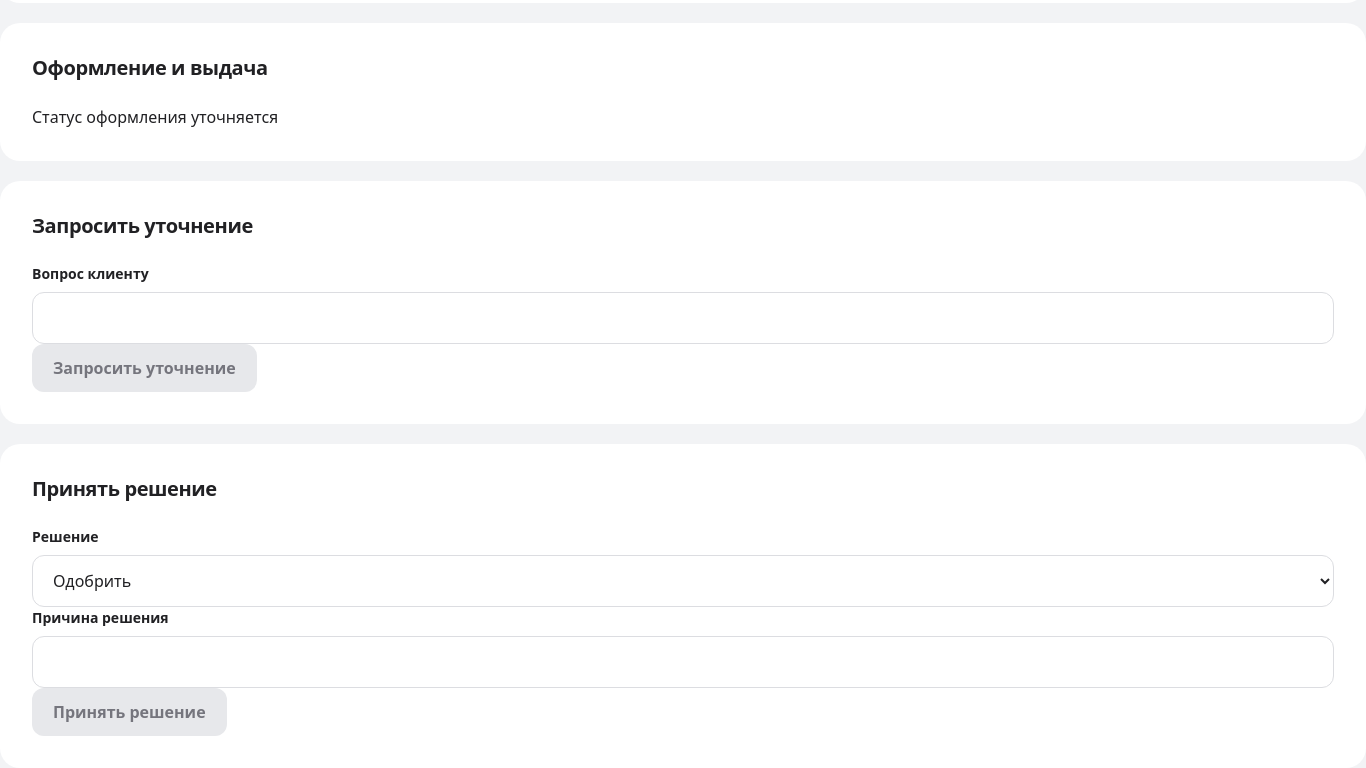
Test case: refreshes stale status on conflict without repeating the decision
(page scrolled)
Type "Проверено" into the field labelled "Причина решения" at (683, 662), box x1=32 y1=636 x2=1334 y2=688
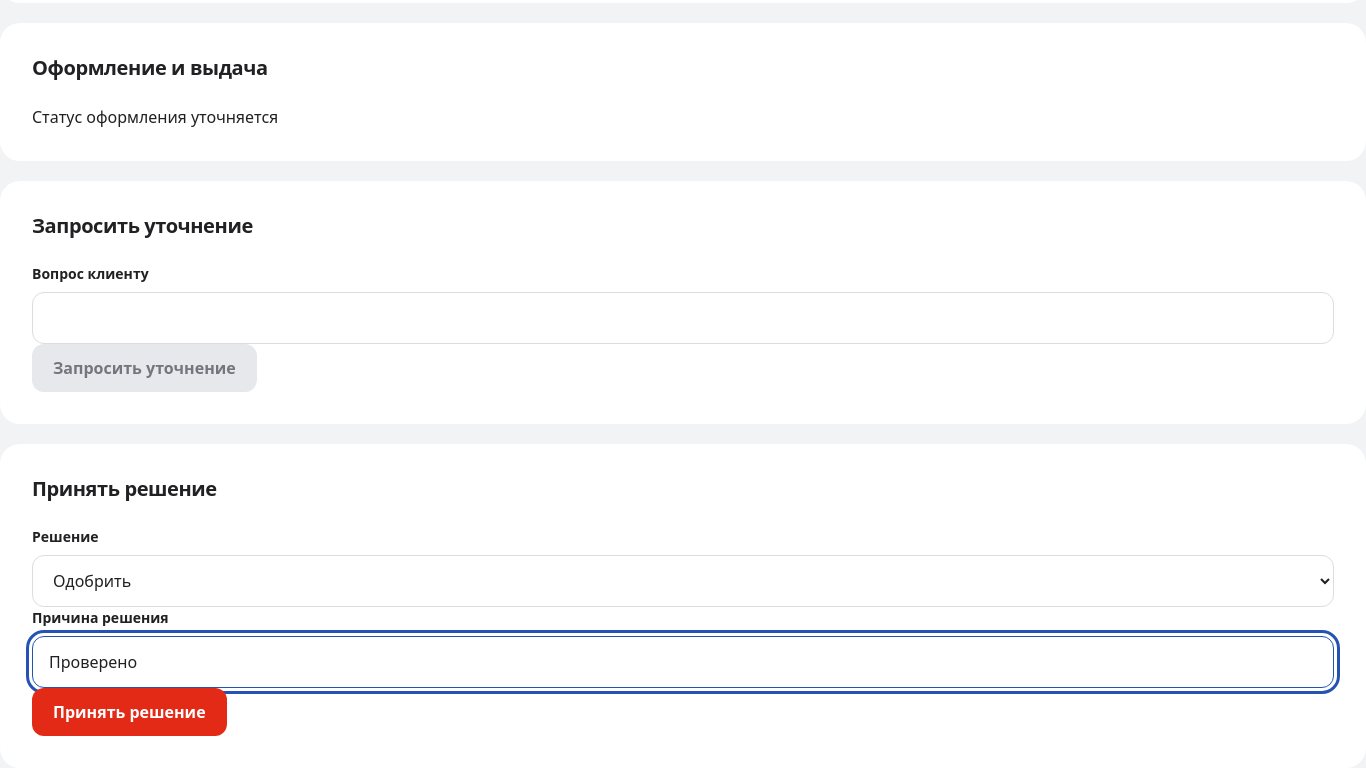
Click the button "Принять решение" at (129, 712), box x1=32 y1=688 x2=227 y2=736
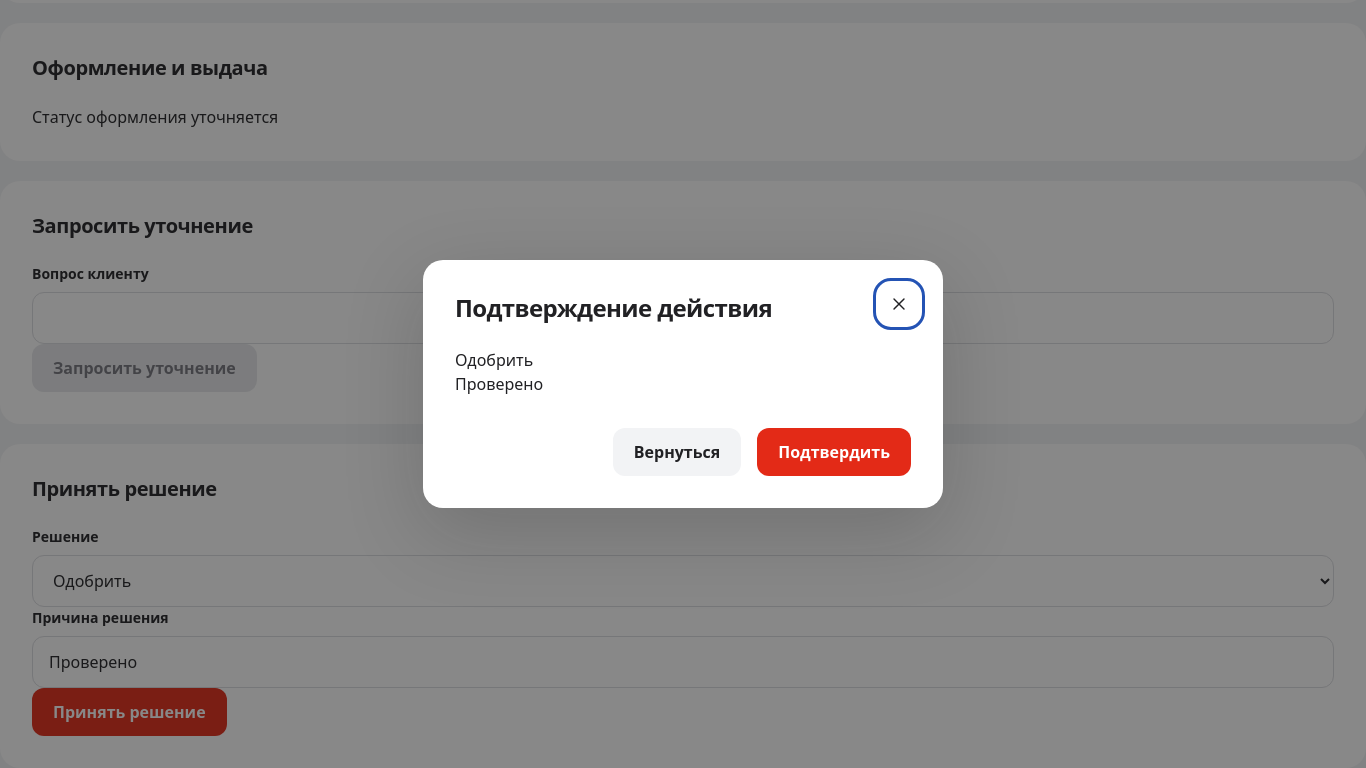
Click the button "Подтвердить" at (834, 452), box x1=757 y1=428 x2=911 y2=476
(page scrolled)
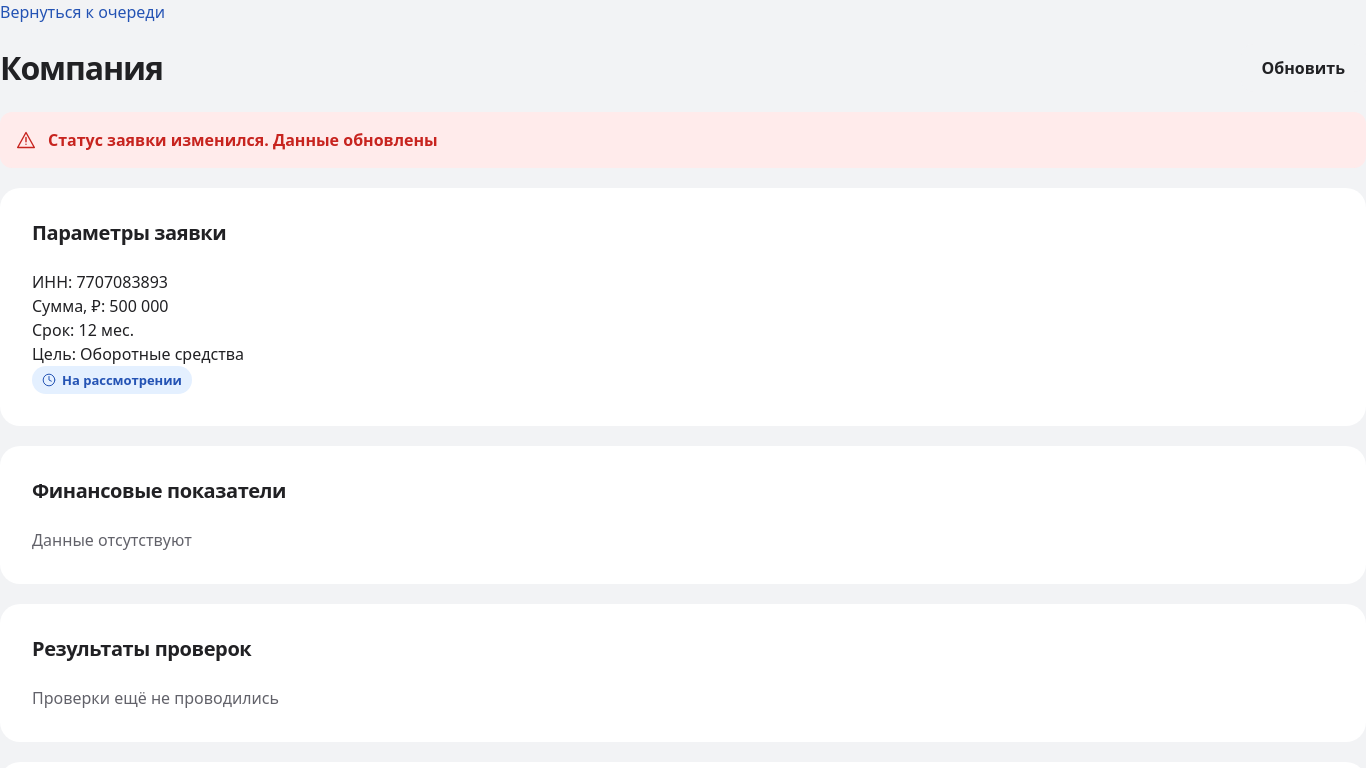
Now the text "Статус заявки изменился. Данные обновлены" is shown, box x1=48 y1=128 x2=438 y2=152
